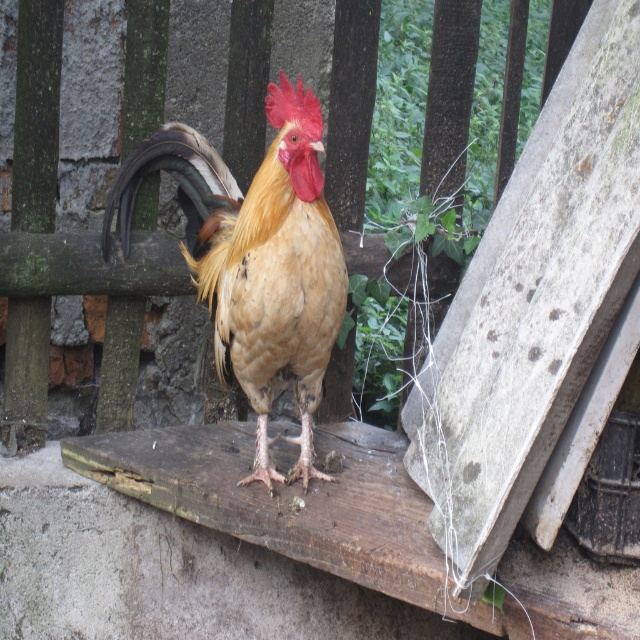Chicken: (96, 57, 344, 494)
